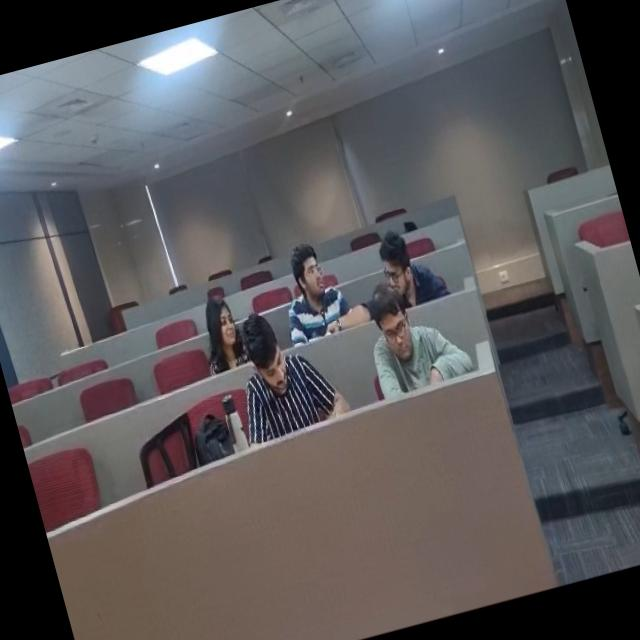cheating: (266, 234, 366, 348), (184, 279, 260, 378), (364, 210, 436, 296)
non-cheating: (222, 306, 328, 442), (353, 282, 448, 402)
